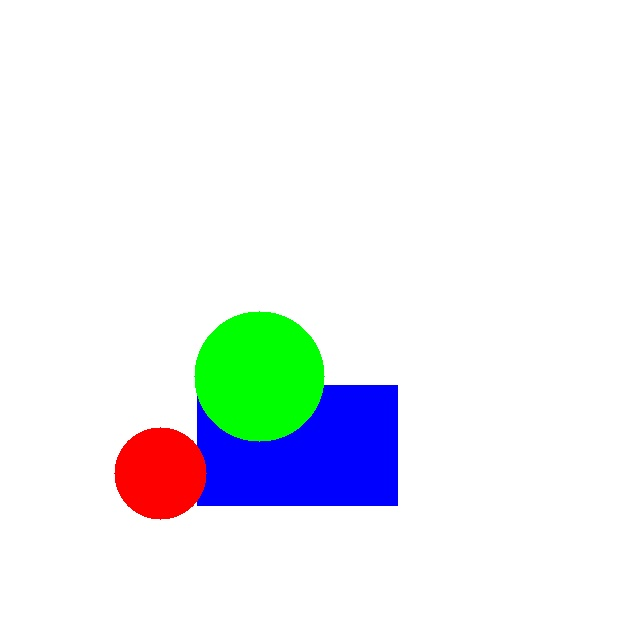cartao: (197, 385, 397, 505)
rosca_externa: (194, 311, 324, 441)
rosca_interna: (114, 427, 206, 519)
